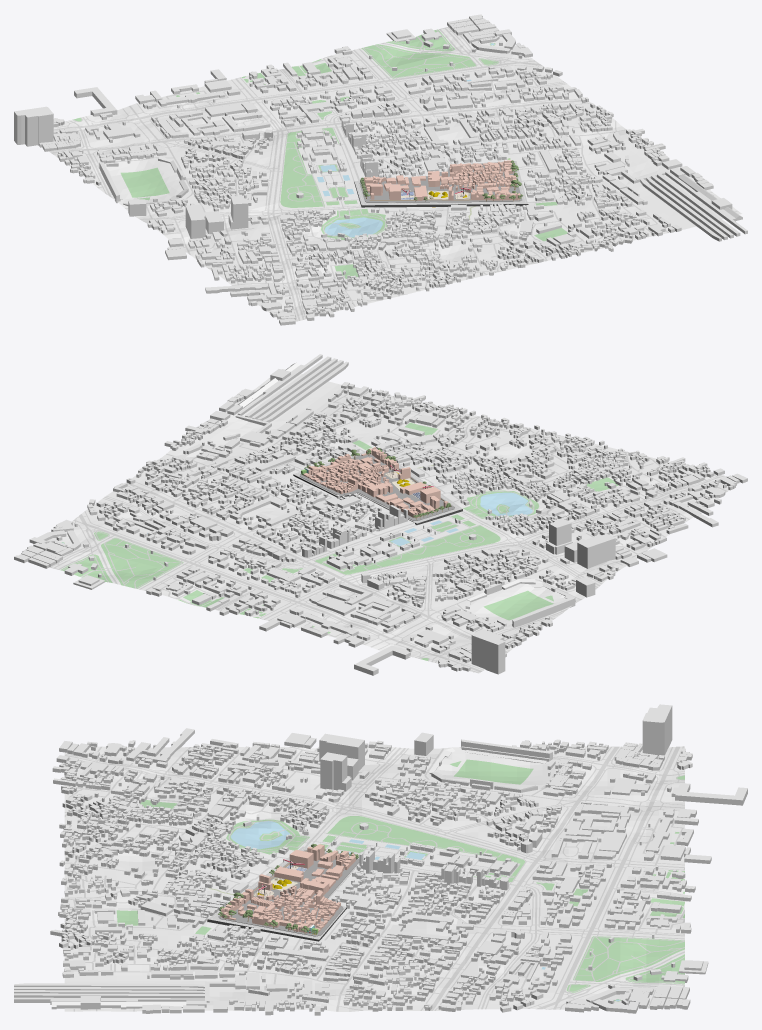
3 views of the same model, one above another, from view 1: azimuth 30°, elevation 25°; view 2: azimuth 150°, elevation 25°; view 3: azimuth 270°, elevation 25° (orthographic). The views are drawn at different scales.
Parts seen in each view (by area): view 1: TPX_BUILDINGS_mat, [Color M00], TPX_ROADS_HATCH_mat, TPX_VEGETATION_GREEN_SPACES_HATCH_mat, [Color B02] (×3), [Color M05], TPX_WATERWAYS_HATCH_mat, [Color M02]1; view 2: TPX_BUILDINGS_mat, [Color M00], TPX_ROADS_HATCH_mat, TPX_VEGETATION_GREEN_SPACES_HATCH_mat, [Color B02] (×3), [Color M05], TPX_WATERWAYS_HATCH_mat, [Color M02]1; view 3: TPX_BUILDINGS_mat, [Color M00], TPX_ROADS_HATCH_mat, TPX_VEGETATION_GREEN_SPACES_HATCH_mat, [Color B02] (×3), [Color M05], TPX_WATERWAYS_HATCH_mat, [Color M02]1.
Part boxes in pixels (x1,y1,x2,y2): TPX_BUILDINGS_mat: [14, 14, 747, 325]; [Color M00]: [48, 27, 741, 321]; TPX_ROADS_HATCH_mat: [49, 27, 737, 321]; TPX_VEGETATION_GREEN_SPACES_HATCH_mat: [73, 29, 567, 278]; [Color B02] (×3): [364, 159, 520, 200]; [Color M05]: [359, 162, 522, 202]; TPX_WATERWAYS_HATCH_mat: [317, 43, 494, 237]; [Color M02]1: [354, 161, 527, 205]; TPX_BUILDINGS_mat: [14, 354, 747, 675]; [Color M00]: [47, 369, 739, 673]; TPX_ROADS_HATCH_mat: [27, 378, 727, 672]; TPX_VEGETATION_GREEN_SPACES_HATCH_mat: [60, 422, 618, 660]; [Color B02] (×3): [303, 447, 448, 517]; [Color M05]: [299, 454, 454, 520]; TPX_WATERWAYS_HATCH_mat: [62, 492, 532, 545]; [Color M02]1: [293, 448, 462, 523]; TPX_BUILDINGS_mat: [14, 704, 747, 1015]; [Color M00]: [64, 746, 684, 1011]; TPX_ROADS_HATCH_mat: [64, 746, 684, 1011]; TPX_VEGETATION_GREEN_SPACES_HATCH_mat: [116, 759, 684, 1001]; [Color B02] (×3): [221, 844, 355, 933]; [Color M05]: [218, 850, 359, 936]; TPX_WATERWAYS_HATCH_mat: [230, 821, 619, 1001]; [Color M02]1: [208, 846, 364, 939].
Size of the model in its own units: 1031 by 62.99 by 1124.
